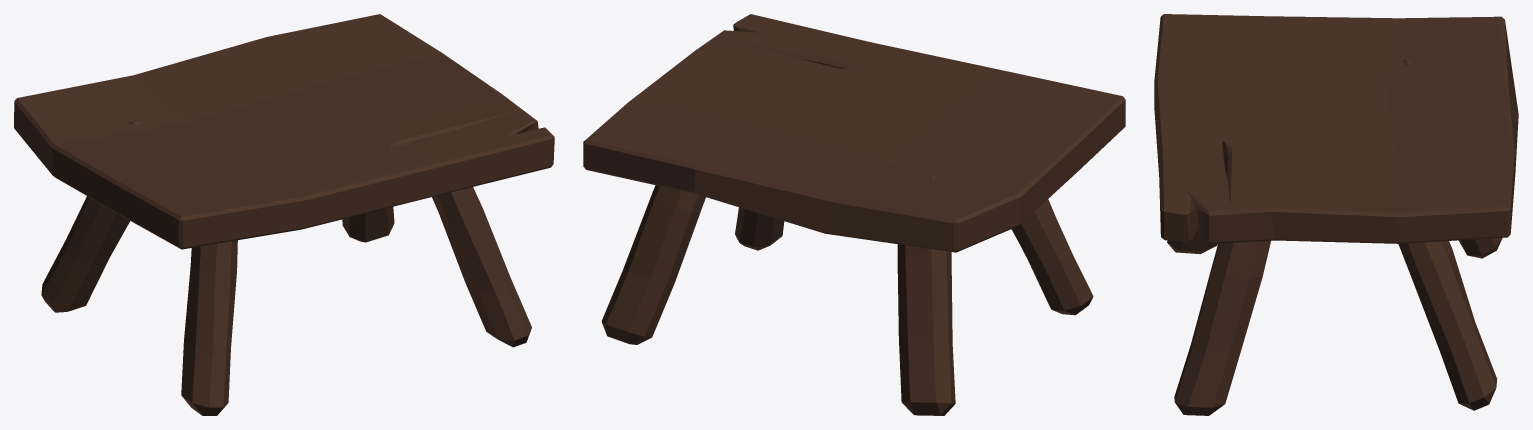
The model's file is table3.fbx.
3 views of the same model, side by side, from view 1: azimuth 30°, elevation 25°; view 2: azimuth 150°, elevation 25°; view 3: azimuth 270°, elevation 25° (orthographic). The views are drawn at different scales.
Parts seen in each view (by area): view 1: table.002; view 2: table.002; view 3: table.002.
Part boxes in pixels (left/top/right/bottom): table.002: left=14, top=14, right=554, bottom=415; table.002: left=583, top=14, right=1125, bottom=415; table.002: left=1154, top=14, right=1518, bottom=415.
Bounding box in the file's own units: 148 × 79.23 × 116.
